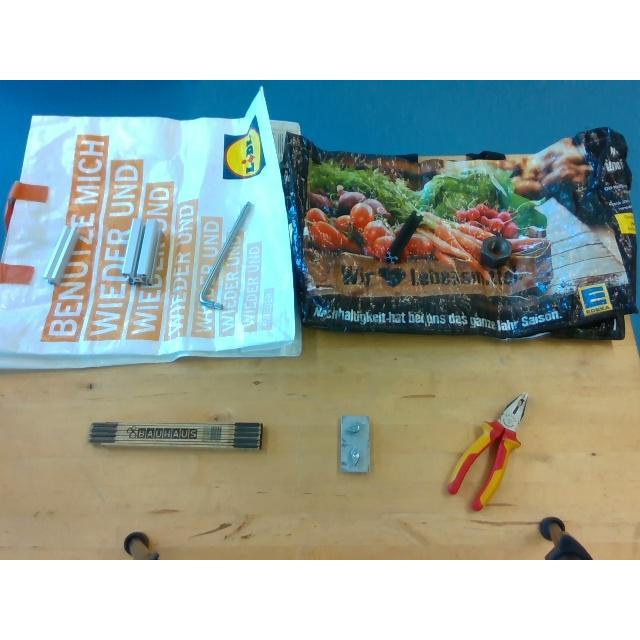AllenKey: (200, 201, 252, 309)
F20_20_B: (384, 210, 424, 262)
F20_20_G: (44, 226, 76, 286)
M30: (480, 234, 512, 266)
S40_40_G: (122, 216, 166, 284)
